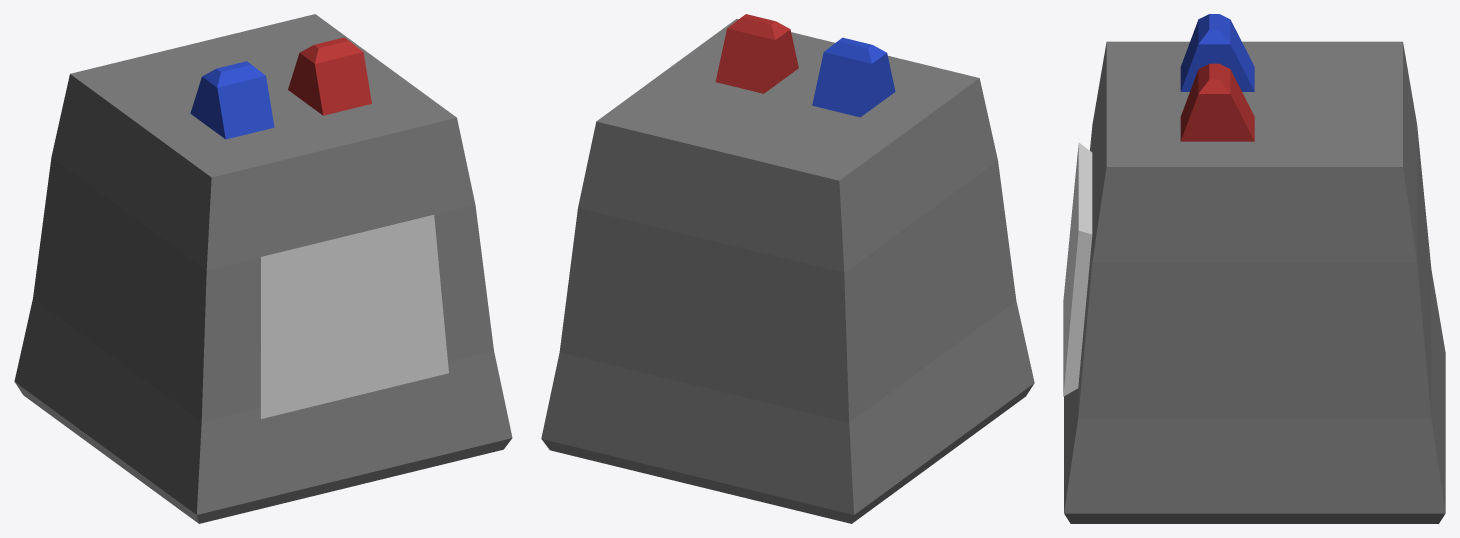
File: Voltmeter.fbx
3 renders of one model, left to right at view 1: azimuth 30°, elevation 25°; view 2: azimuth 150°, elevation 25°; view 3: azimuth 270°, elevation 25°, orthographic. The views are drawn at different scales.
Visible parts, largest first — view 1: Cube; view 2: Cube; view 3: Cube.
Boxes of the visible parts, bbox=[...] form: Cube: bbox=[14, 14, 512, 523]; Cube: bbox=[541, 14, 1034, 523]; Cube: bbox=[1063, 14, 1445, 523].
Bounding box in the file's own units: 257 × 297 × 258.
1 material, 1 textured.
